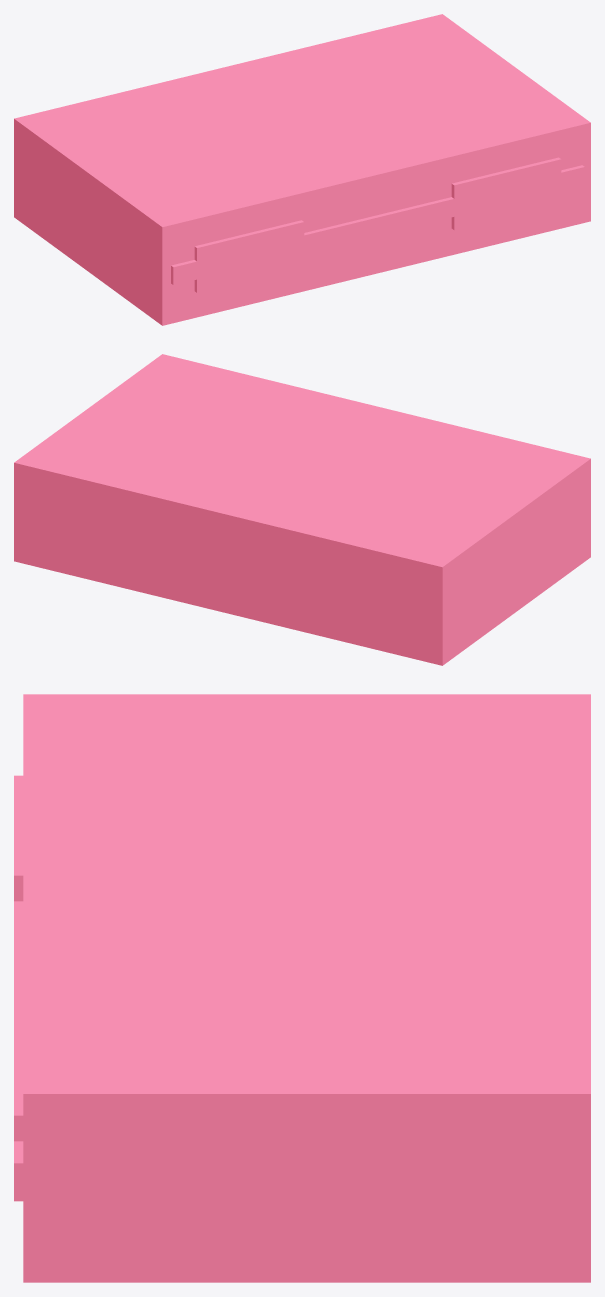
Rendered from firewall.glb.
3 renders of one model, top to bottom at view 1: azimuth 30°, elevation 25°; view 2: azimuth 150°, elevation 25°; view 3: azimuth 270°, elevation 25°, orthographic. The views are drawn at different scales.
Parts seen in each view (by area): view 1: CyberDomeAsset; view 2: CyberDomeAsset; view 3: CyberDomeAsset.
Boxes of the visible parts, x1,y1,x2,y2 form: CyberDomeAsset: (14, 14, 590, 325); CyberDomeAsset: (14, 354, 590, 665); CyberDomeAsset: (14, 694, 590, 1282).
Bounding box in the file's own units: 1 × 0.22 × 0.61.
